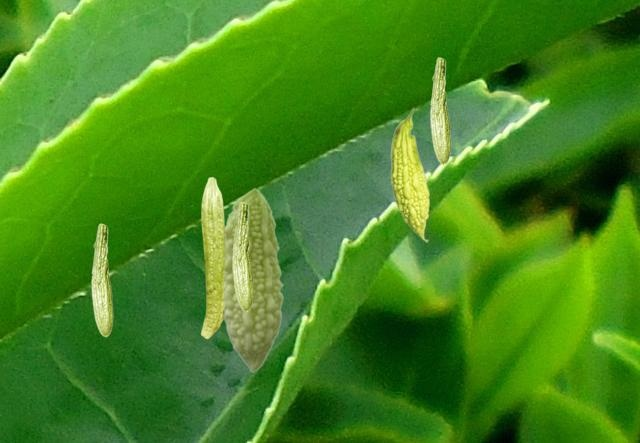ampalaya: (224, 187, 284, 372), (390, 107, 430, 243), (200, 176, 225, 339), (91, 223, 114, 337), (231, 201, 254, 312), (429, 57, 451, 165)
